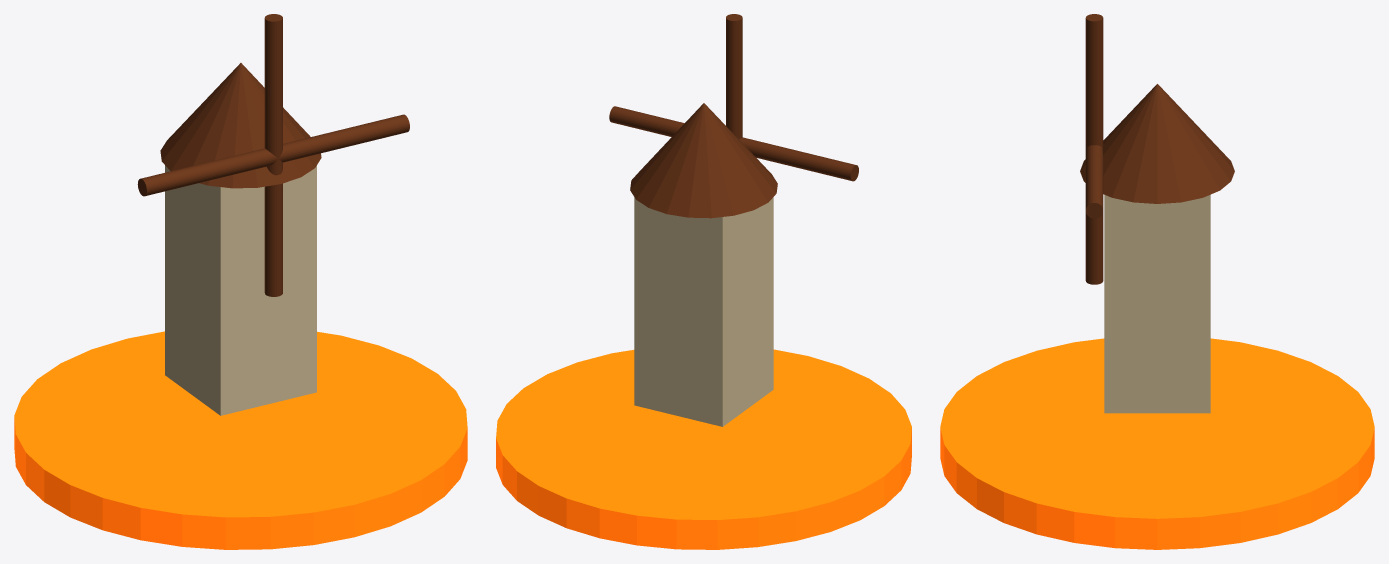
Rendered from spanish_windmill.dae.
3 renders of one model, left to right at view 1: azimuth 30°, elevation 25°; view 2: azimuth 150°, elevation 25°; view 3: azimuth 270°, elevation 25°, orthographic. The views are drawn at different scales.
Parts seen in each view (by area): view 1: 11_18_Popular_Spanish_Windmill_ROOT_base, 11_18_Popular_Spanish_Windmill_part_01, 11_18_Popular_Spanish_Windmill_part_02, 11_18_Popular_Spanish_Windmill_part_04, 11_18_Popular_Spanish_Windmill_part_05, 11_18_Popular_Spanish_Windmill_part_03, 11_18_Popular_Spanish_Windmill_part_06; view 2: 11_18_Popular_Spanish_Windmill_ROOT_base, 11_18_Popular_Spanish_Windmill_part_01, 11_18_Popular_Spanish_Windmill_part_02, 11_18_Popular_Spanish_Windmill_part_04, 11_18_Popular_Spanish_Windmill_part_05, 11_18_Popular_Spanish_Windmill_part_03; view 3: 11_18_Popular_Spanish_Windmill_ROOT_base, 11_18_Popular_Spanish_Windmill_part_01, 11_18_Popular_Spanish_Windmill_part_02, 11_18_Popular_Spanish_Windmill_part_04, 11_18_Popular_Spanish_Windmill_part_03, 11_18_Popular_Spanish_Windmill_part_06.
Boxes of the visible parts, x1=… form: 11_18_Popular_Spanish_Windmill_ROOT_base: x1=14, y1=331, x2=467, y2=549; 11_18_Popular_Spanish_Windmill_part_01: x1=165, y1=165, x2=316, y2=415; 11_18_Popular_Spanish_Windmill_part_02: x1=160, y1=63, x2=321, y2=188; 11_18_Popular_Spanish_Windmill_part_04: x1=264, y1=14, x2=282, y2=158; 11_18_Popular_Spanish_Windmill_part_05: x1=137, y1=148, x2=277, y2=196; 11_18_Popular_Spanish_Windmill_part_03: x1=278, y1=114, x2=409, y2=162; 11_18_Popular_Spanish_Windmill_part_06: x1=264, y1=159, x2=282, y2=296; 11_18_Popular_Spanish_Windmill_ROOT_base: x1=496, y1=349, x2=911, y2=549; 11_18_Popular_Spanish_Windmill_part_01: x1=634, y1=197, x2=773, y2=426; 11_18_Popular_Spanish_Windmill_part_02: x1=630, y1=103, x2=777, y2=218; 11_18_Popular_Spanish_Windmill_part_04: x1=726, y1=14, x2=742, y2=139; 11_18_Popular_Spanish_Windmill_part_05: x1=739, y1=137, x2=858, y2=181; 11_18_Popular_Spanish_Windmill_part_03: x1=609, y1=106, x2=684, y2=136; 11_18_Popular_Spanish_Windmill_ROOT_base: x1=940, y1=338, x2=1374, y2=549; 11_18_Popular_Spanish_Windmill_part_01: x1=1104, y1=194, x2=1210, y2=413; 11_18_Popular_Spanish_Windmill_part_02: x1=1080, y1=84, x2=1234, y2=203; 11_18_Popular_Spanish_Windmill_part_04: x1=1085, y1=14, x2=1103, y2=148; 11_18_Popular_Spanish_Windmill_part_03: x1=1085, y1=145, x2=1103, y2=218; 11_18_Popular_Spanish_Windmill_part_06: x1=1085, y1=211, x2=1103, y2=284.
Size of the model in its own units: 0.76 by 0.85 by 0.76.
